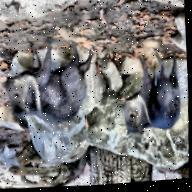boar: (0, 31, 99, 132), (116, 44, 185, 140)
